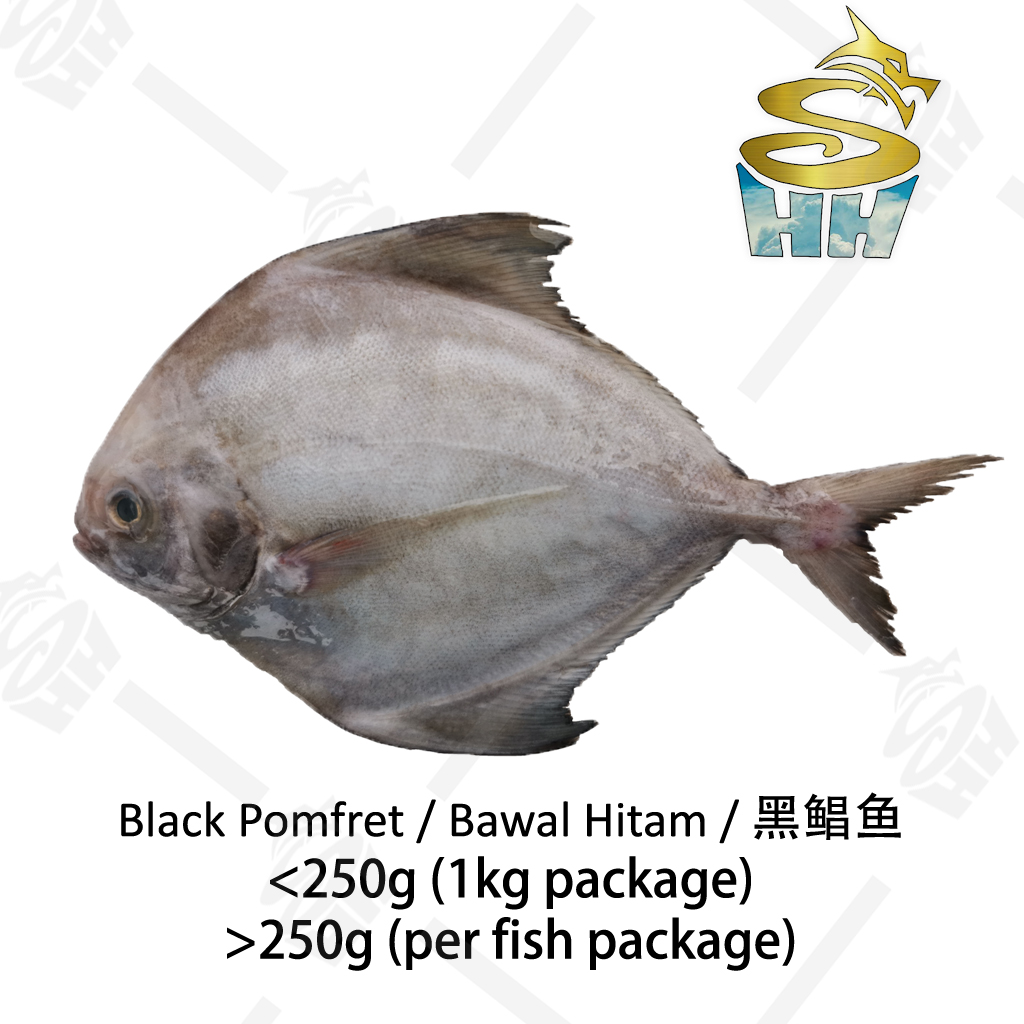Ikan Bawal: (50, 213, 1013, 776)
